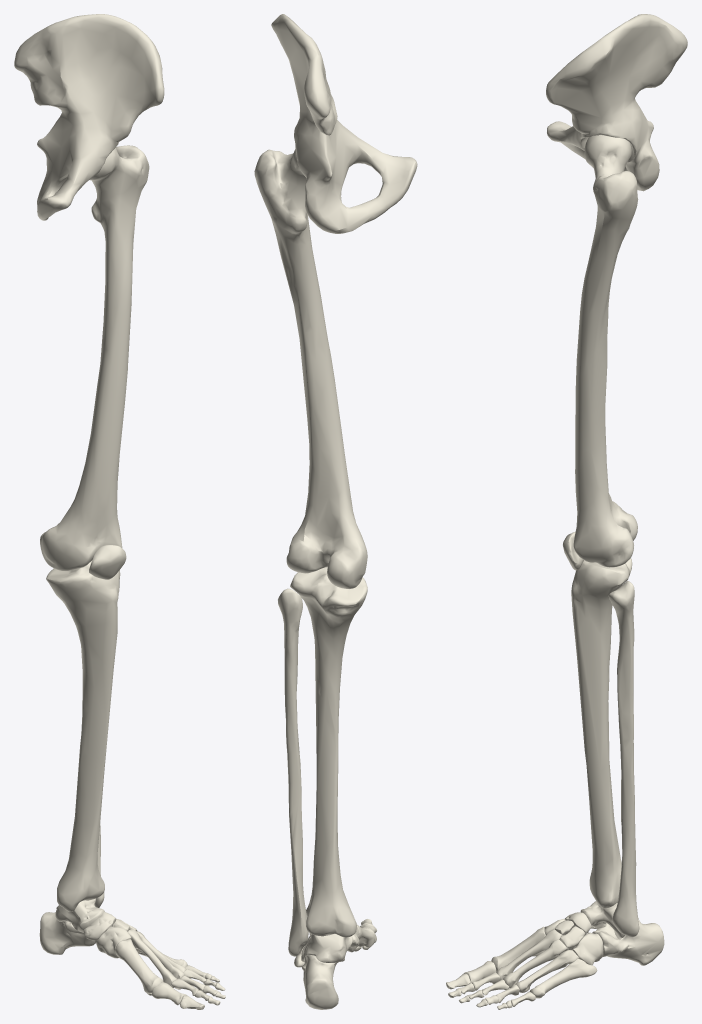
Rendered from leg-left.glb.
3 renders of one model, left to right at view 1: azimuth 30°, elevation 25°; view 2: azimuth 150°, elevation 25°; view 3: azimuth 270°, elevation 25°, orthographic. The views are drawn at different scales.
Parts seen in each view (by area): view 1: bp3d_FMA16587_FJ3288, bp3d_FMA24475_FJ3259, bp3d_FMA24478_FJ3282, bp3d_FMA24498_FJ3256, bp3d_FMA24508_FJ3241, bp3d_FMA24487_FJ3275, bp3d_FMA24483_FJ3280, bp3d_FMA24522_FJ3271, bp3d_FMA24510_FJ3244, bp3d_FMA24501_FJ3307; view 2: bp3d_FMA24475_FJ3259, bp3d_FMA16587_FJ3288, bp3d_FMA24478_FJ3282, bp3d_FMA24481_FJ3260, bp3d_FMA24498_FJ3256, bp3d_FMA24483_FJ3280; view 3: bp3d_FMA24475_FJ3259, bp3d_FMA16587_FJ3288, bp3d_FMA24478_FJ3282, bp3d_FMA24481_FJ3260, bp3d_FMA24498_FJ3256, bp3d_FMA24516_FJ3253, bp3d_FMA24512_FJ3247, bp3d_FMA24514_FJ3250, bp3d_FMA24508_FJ3241, bp3d_FMA24529_FJ3258, bp3d_FMA24510_FJ3244, bp3d_FMA24483_FJ3280.
Boxes of the visible parts, bbox=[...] form: bp3d_FMA16587_FJ3288: bbox=[14, 14, 164, 220]; bp3d_FMA24475_FJ3259: bbox=[40, 145, 149, 570]; bp3d_FMA24478_FJ3282: bbox=[46, 561, 120, 911]; bp3d_FMA24498_FJ3256: bbox=[39, 912, 96, 954]; bp3d_FMA24508_FJ3241: bbox=[115, 939, 163, 993]; bp3d_FMA24487_FJ3275: bbox=[89, 545, 126, 579]; bp3d_FMA24483_FJ3280: bbox=[55, 898, 104, 932]; bp3d_FMA24522_FJ3271: bbox=[96, 926, 131, 958]; bp3d_FMA24510_FJ3244: bbox=[128, 928, 176, 987]; bp3d_FMA24501_FJ3307: bbox=[83, 911, 115, 940]; bp3d_FMA24475_FJ3259: bbox=[254, 149, 367, 588]; bp3d_FMA16587_FJ3288: bbox=[271, 14, 417, 233]; bp3d_FMA24478_FJ3282: bbox=[290, 567, 367, 937]; bp3d_FMA24481_FJ3260: bbox=[278, 588, 308, 956]; bp3d_FMA24498_FJ3256: bbox=[302, 946, 344, 1009]; bp3d_FMA24483_FJ3280: bbox=[305, 934, 352, 962]; bp3d_FMA24475_FJ3259: bbox=[573, 135, 638, 567]; bp3d_FMA16587_FJ3288: bbox=[546, 14, 687, 191]; bp3d_FMA24478_FJ3282: bbox=[571, 558, 632, 908]; bp3d_FMA24481_FJ3260: bbox=[608, 581, 639, 937]; bp3d_FMA24498_FJ3256: bbox=[592, 920, 664, 965]; bp3d_FMA24516_FJ3253: bbox=[529, 958, 597, 998]; bp3d_FMA24512_FJ3247: bbox=[503, 939, 567, 988]; bp3d_FMA24514_FJ3250: bbox=[515, 950, 578, 992]; bp3d_FMA24508_FJ3241: bbox=[491, 926, 545, 971]; bp3d_FMA24529_FJ3258: bbox=[572, 932, 603, 965]; bp3d_FMA24510_FJ3244: bbox=[496, 929, 562, 980]; bp3d_FMA24483_FJ3280: bbox=[580, 901, 638, 937].
Size of the model in its own units: 0.1666 by 1.03 by 0.2346.
